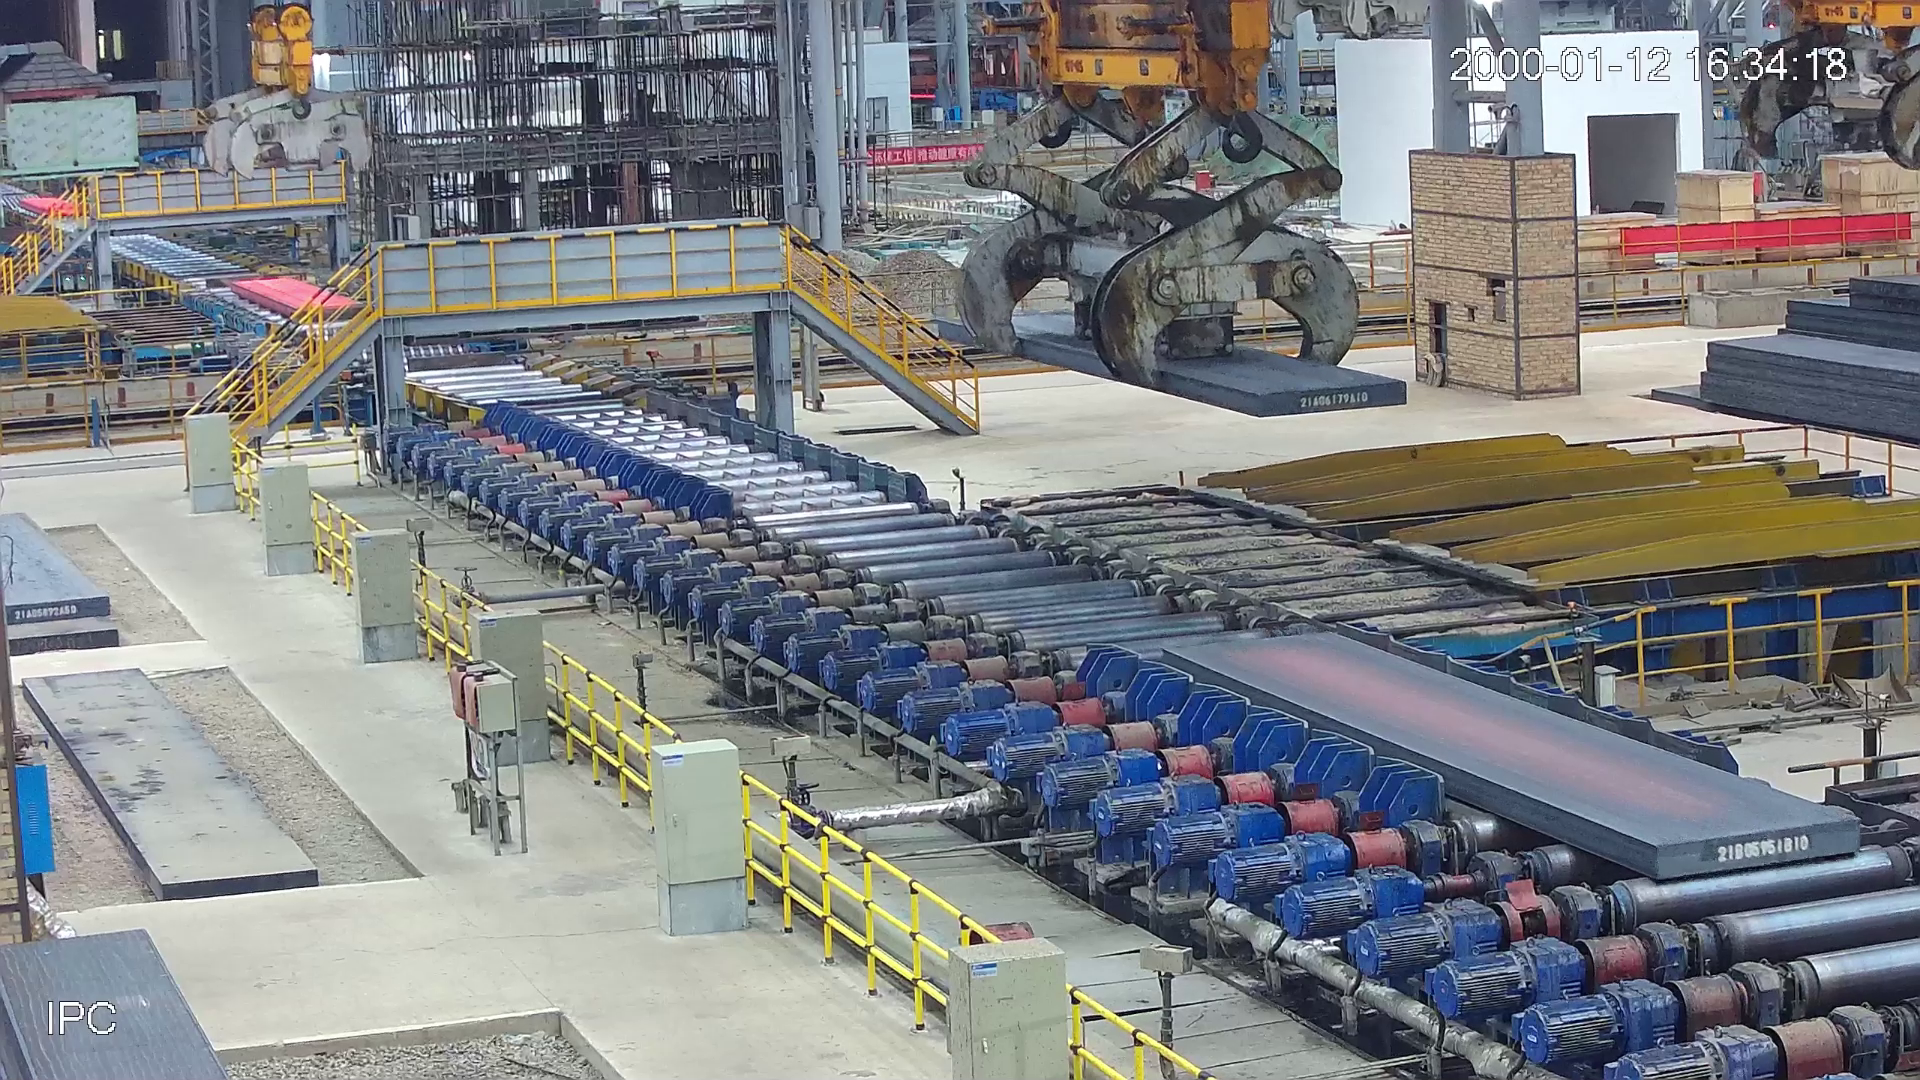crane: (200, 1, 369, 181)
craneandslab: (934, 3, 1407, 419)
slab: (1162, 632, 1863, 880), (224, 277, 372, 320)
